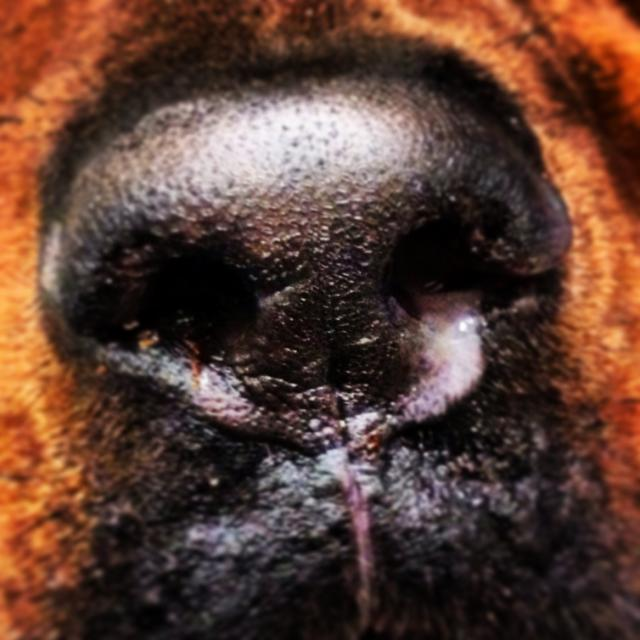fungal infection: (403, 322, 487, 423)
